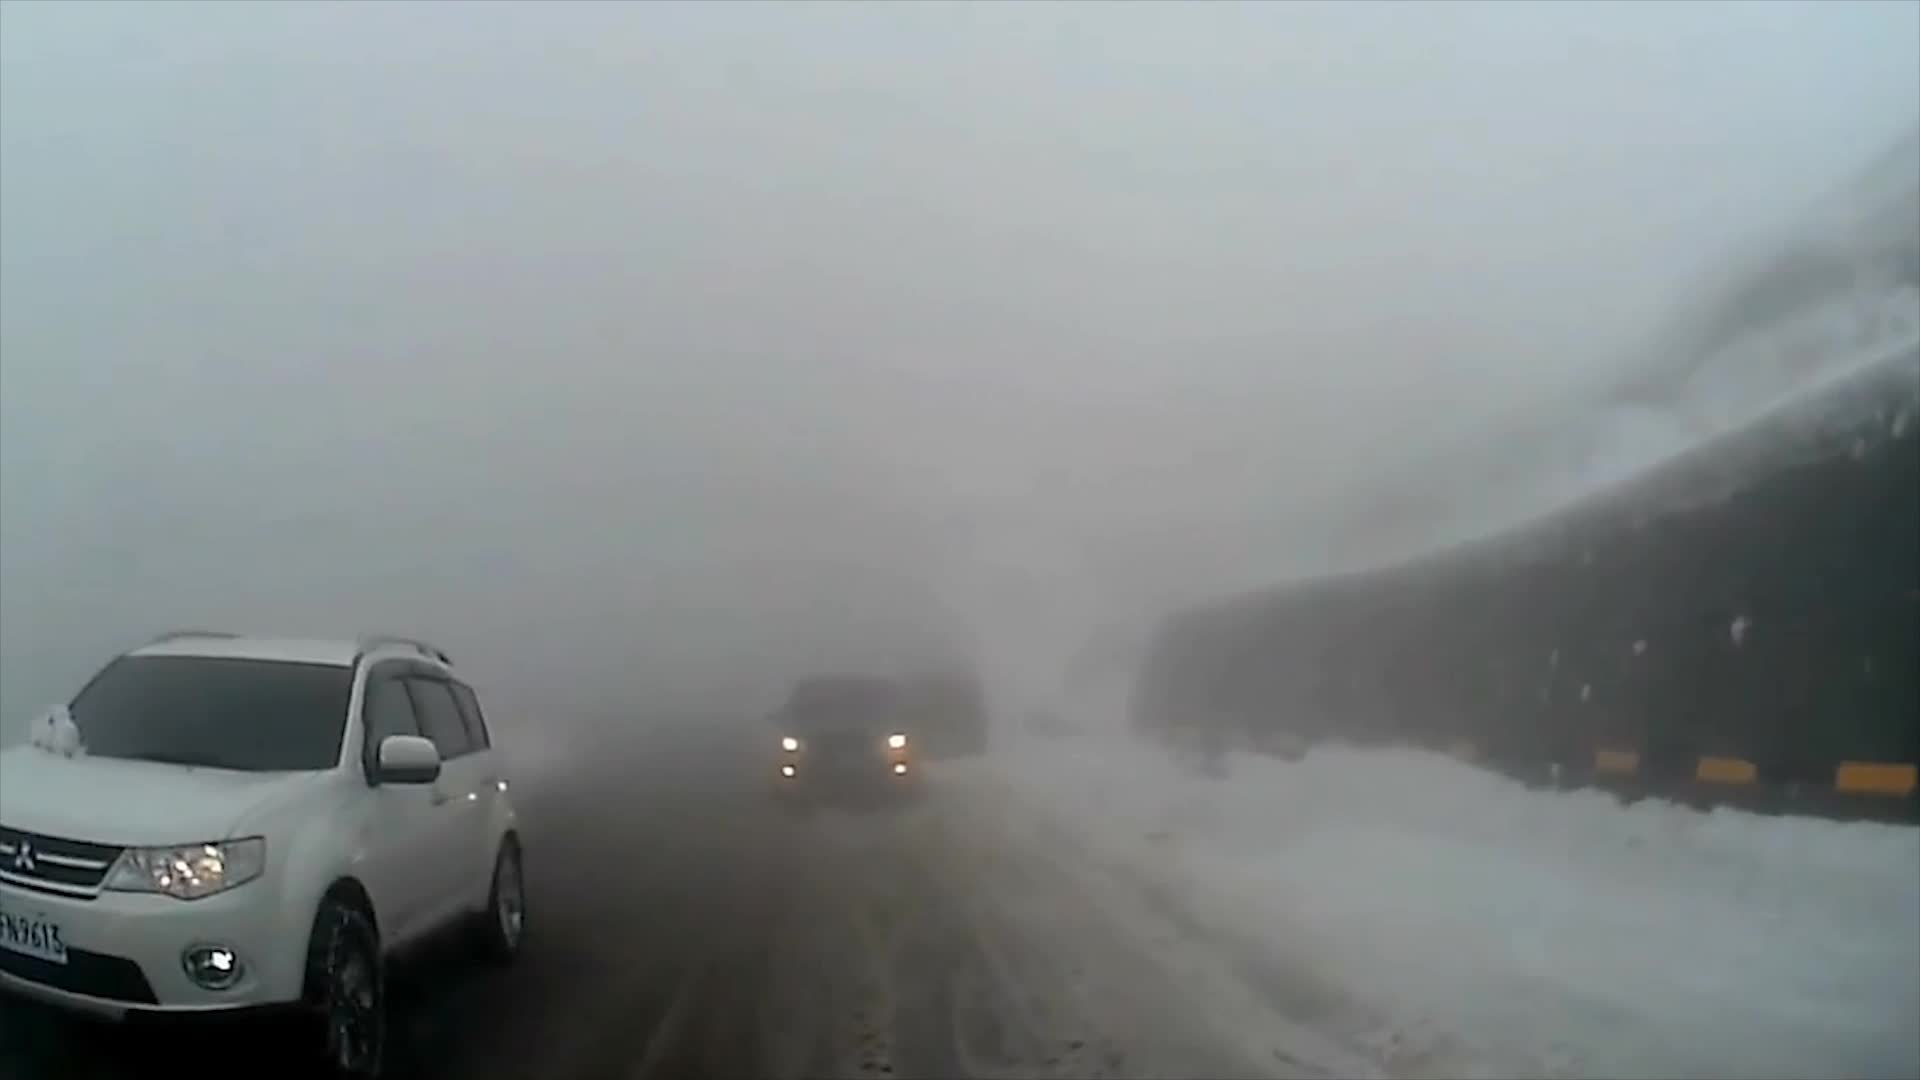vehicle: (0, 629, 531, 1080), (764, 673, 920, 807)
